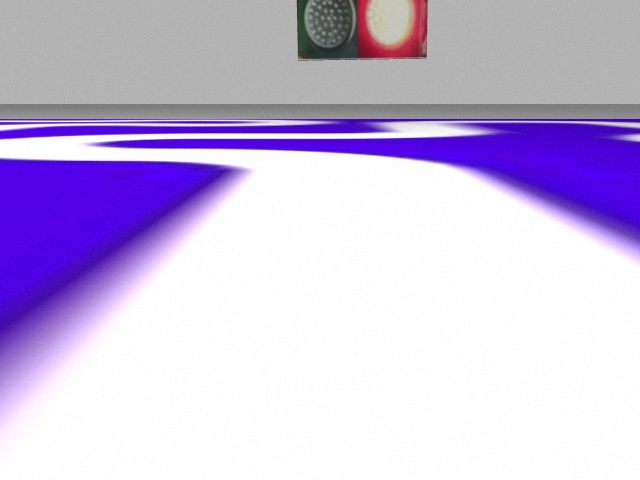red: (356, 1, 427, 57)
